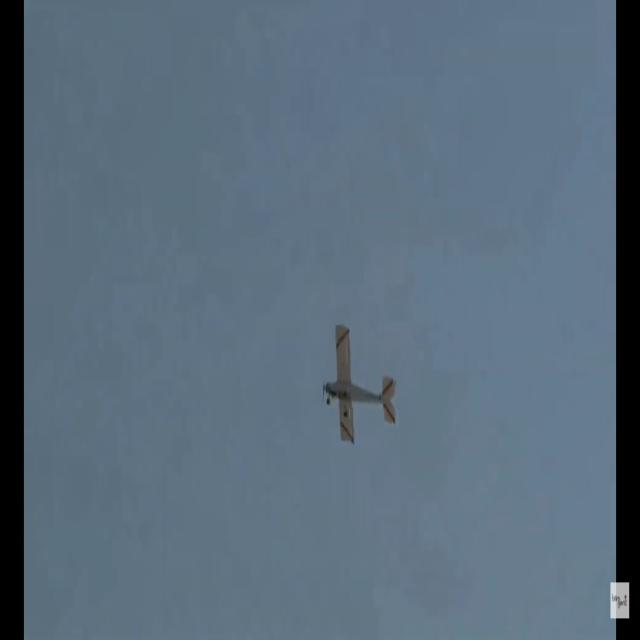iha: (357, 354, 361, 415)
